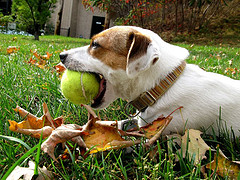tennis ball: (60, 69, 99, 105)
